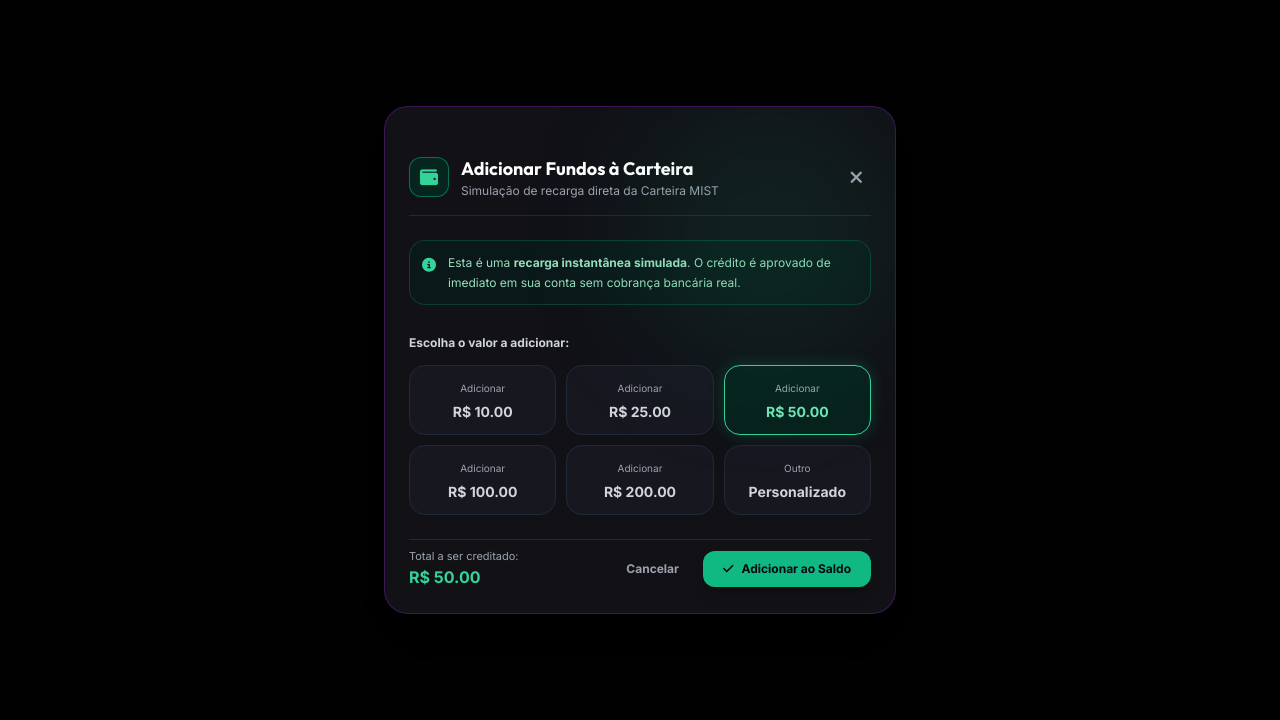
Test: AddFundsModal Component › exibe mensagem de erro quando a API falha
This screenshot has width=1280, height=720.
Click the button with test id "btn-confirm-recharge".
click(787, 568)  # box left=703, top=550, right=871, bottom=586
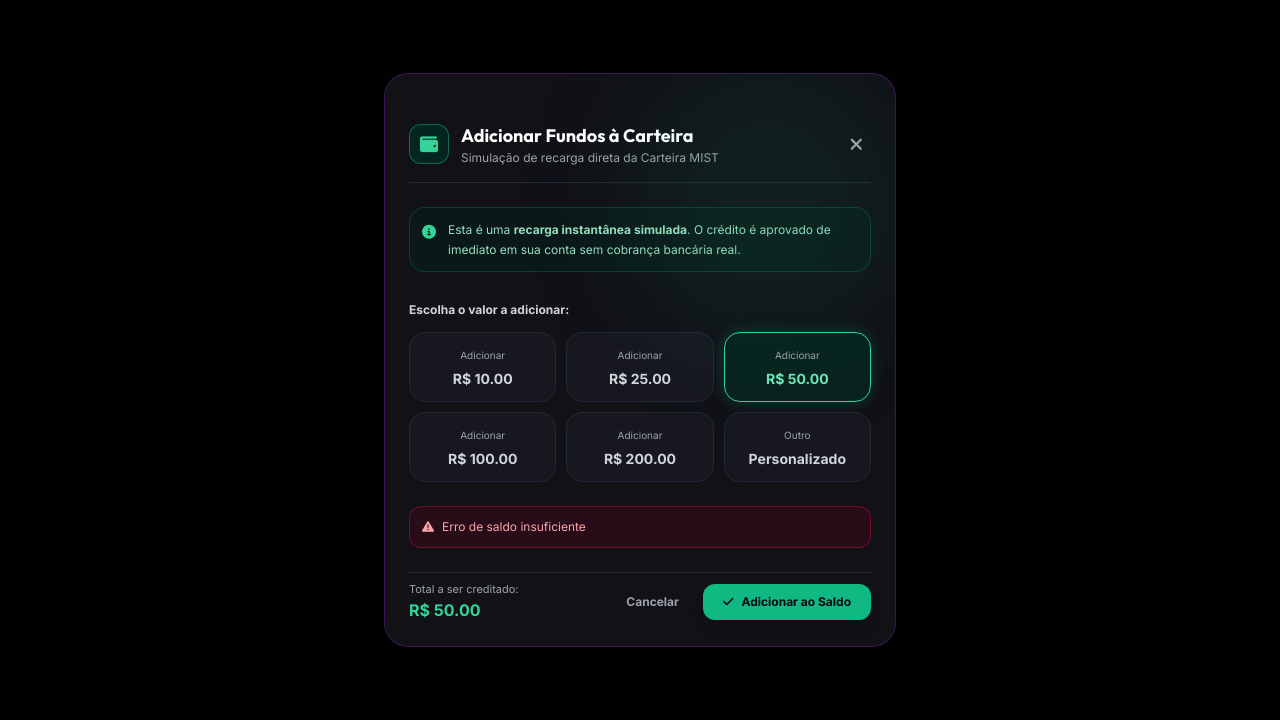
Check: the text "Erro de saldo insuficiente" is shown, box left=442, top=519, right=586, bottom=535
